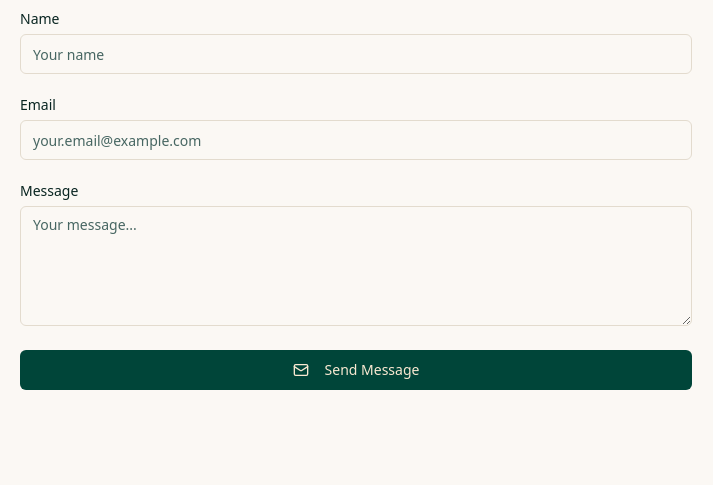
Test: ContactForm › should display error message when Server Action throws
The image size is (713, 485).
Type "John Doe" into the field labelled "Name" at (356,54), box [20, 34, 692, 74]
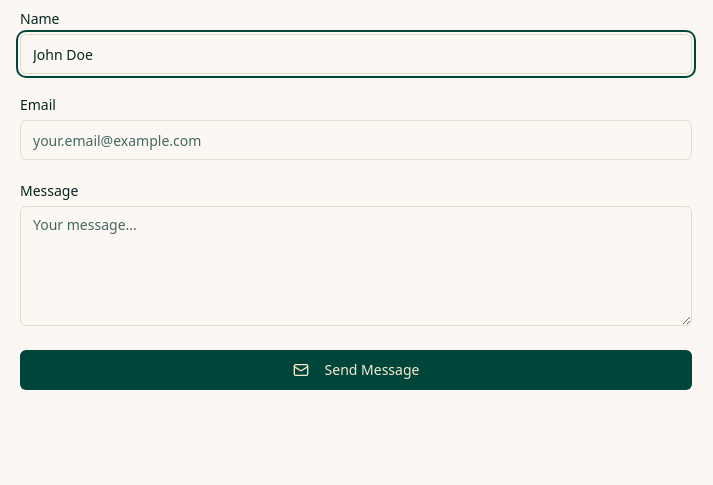
Type "john@example.com" into the field labelled "Email" at (356,140), box [20, 120, 692, 160]
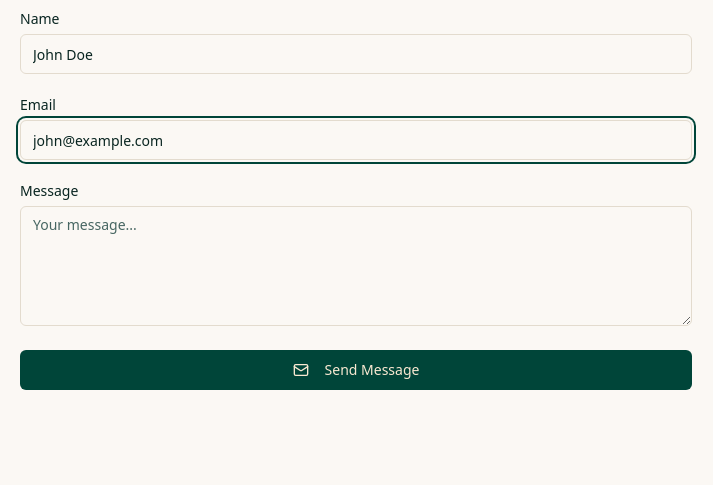
Type "This is a valid message with enough characters" into the text box labelled "Message" at (356,266), box [20, 206, 692, 326]
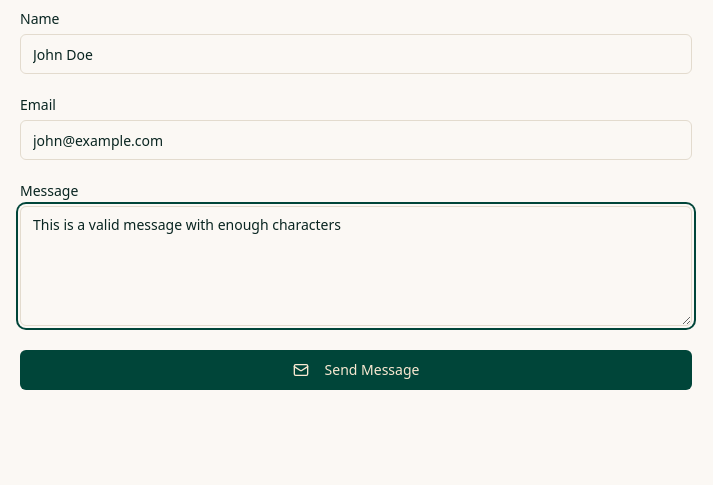
Click the button "Send Message" at (356,370), box [20, 350, 692, 390]
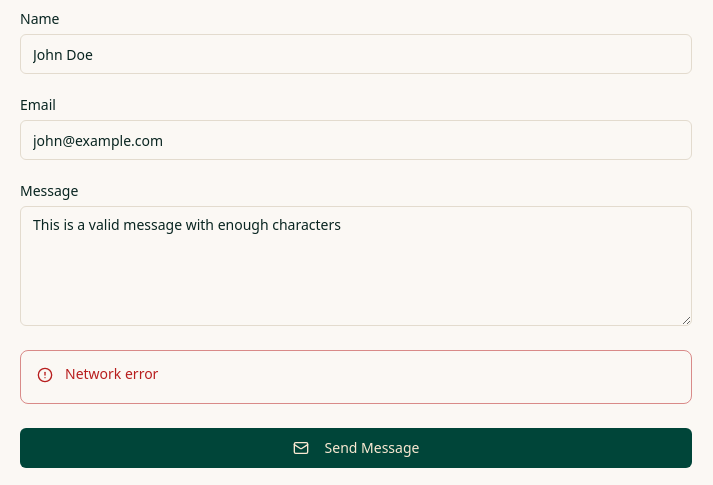
expect the text "Network error" is shown: met, box [65, 364, 158, 383]
